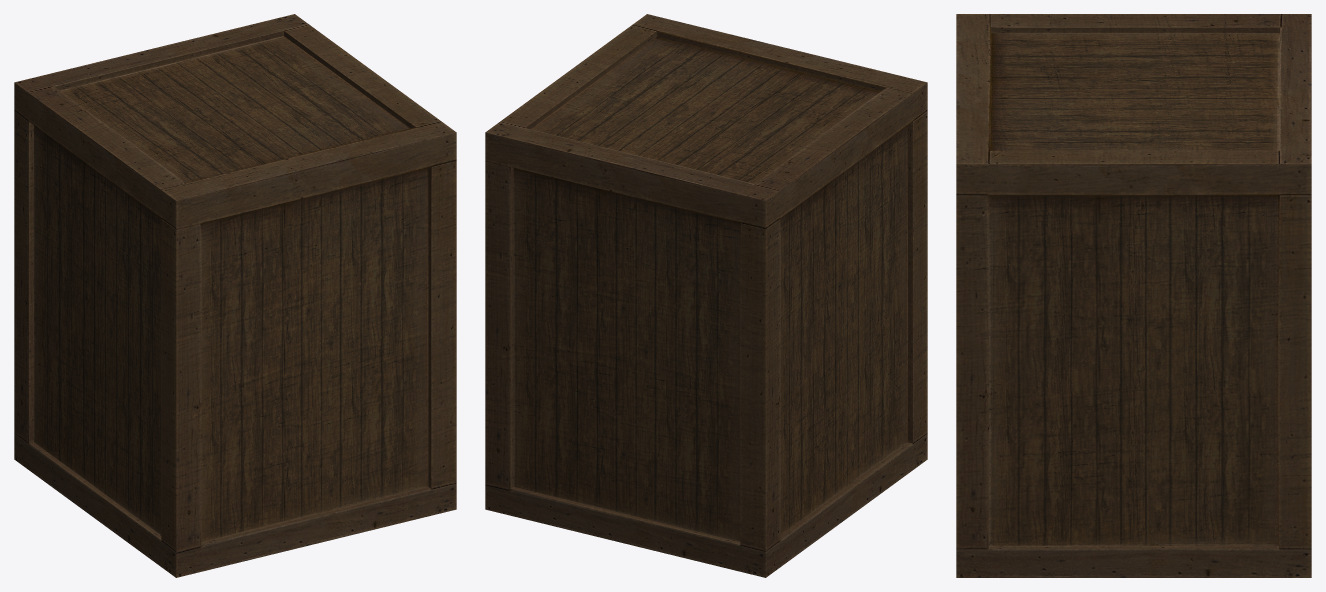
The model's file is wooden_crate_hx_2_2.obj.
3 views of the same model, side by side, from view 1: azimuth 30°, elevation 25°; view 2: azimuth 150°, elevation 25°; view 3: azimuth 270°, elevation 25° (orthographic). The views are drawn at different scales.
Visible parts, largest first — view 1: wooden_crate_hx_2_2; view 2: wooden_crate_hx_2_2; view 3: wooden_crate_hx_2_2.
Boxes of the visible parts, x1,y1,x2,y2 form: wooden_crate_hx_2_2: [14, 14, 456, 577]; wooden_crate_hx_2_2: [485, 14, 927, 577]; wooden_crate_hx_2_2: [956, 14, 1311, 577].
Bounding box in the file's own units: 1.4 × 1.8 × 1.4.
